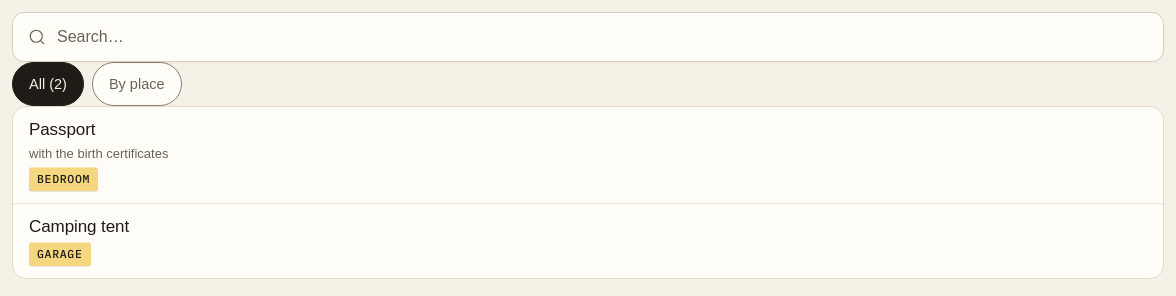
Test: clearing the input restores the full list
Type "tent" into the search field named "Search your stuff" at (588, 37), box [12, 12, 1164, 62]
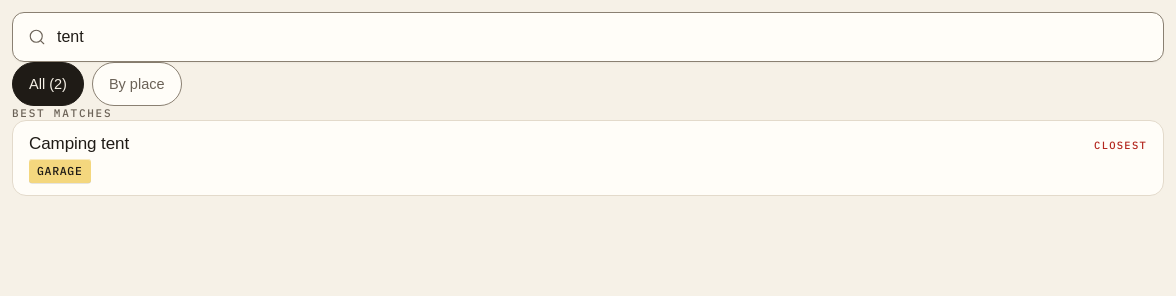
Result: the link "Passport" is gone
Clear the search field named "Search your stuff" at (588, 37), box [12, 12, 1164, 62]
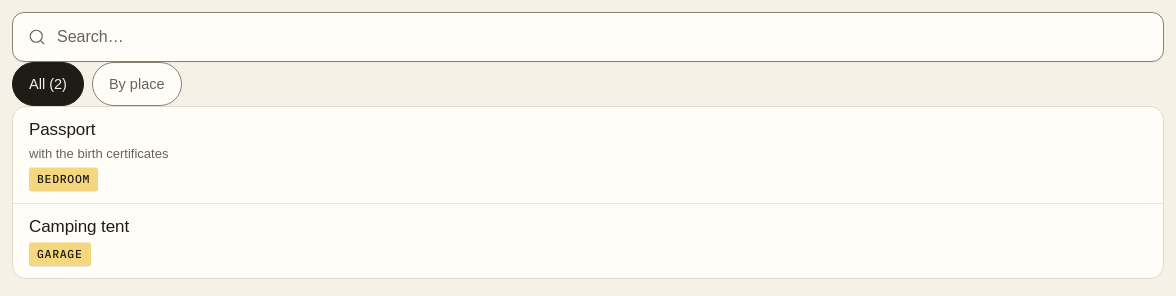
Expected: the text "Camping tent" is shown, [29, 216, 129, 238]
Result: the text "Passport" is shown at [29, 119, 95, 141]
